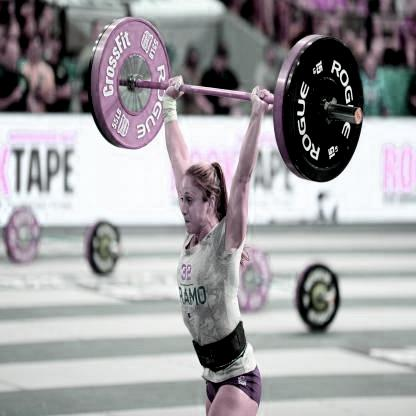barbell: (287, 36, 366, 183), (98, 18, 173, 151)
